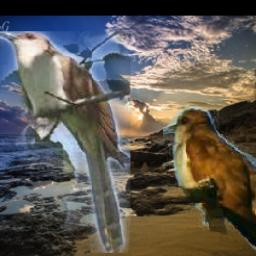Cuckoo: (0, 32, 130, 254), (164, 107, 256, 256)
